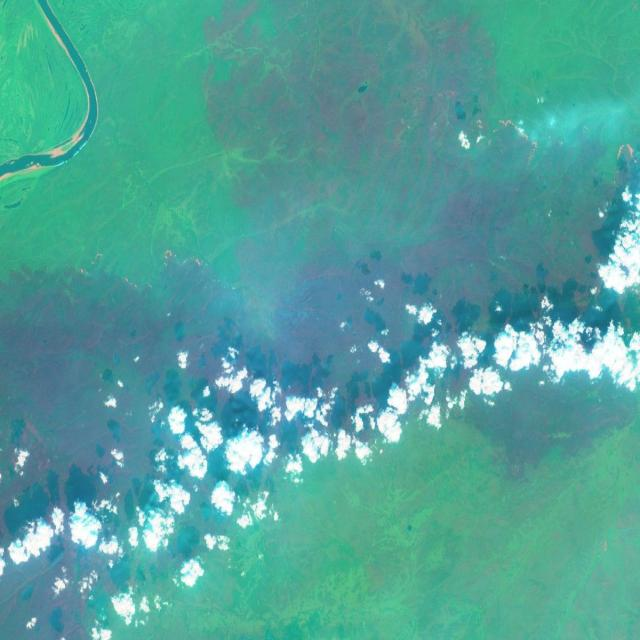fire: (473, 109, 549, 170), (606, 131, 640, 184)
